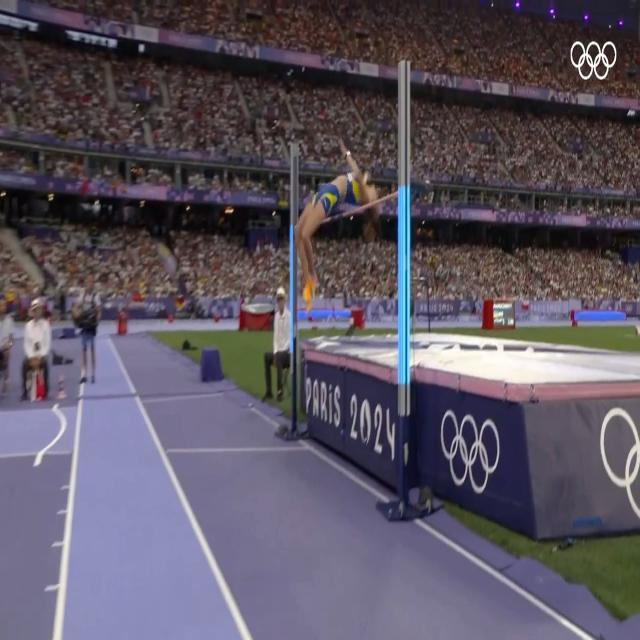jump: (296, 138, 378, 314)
